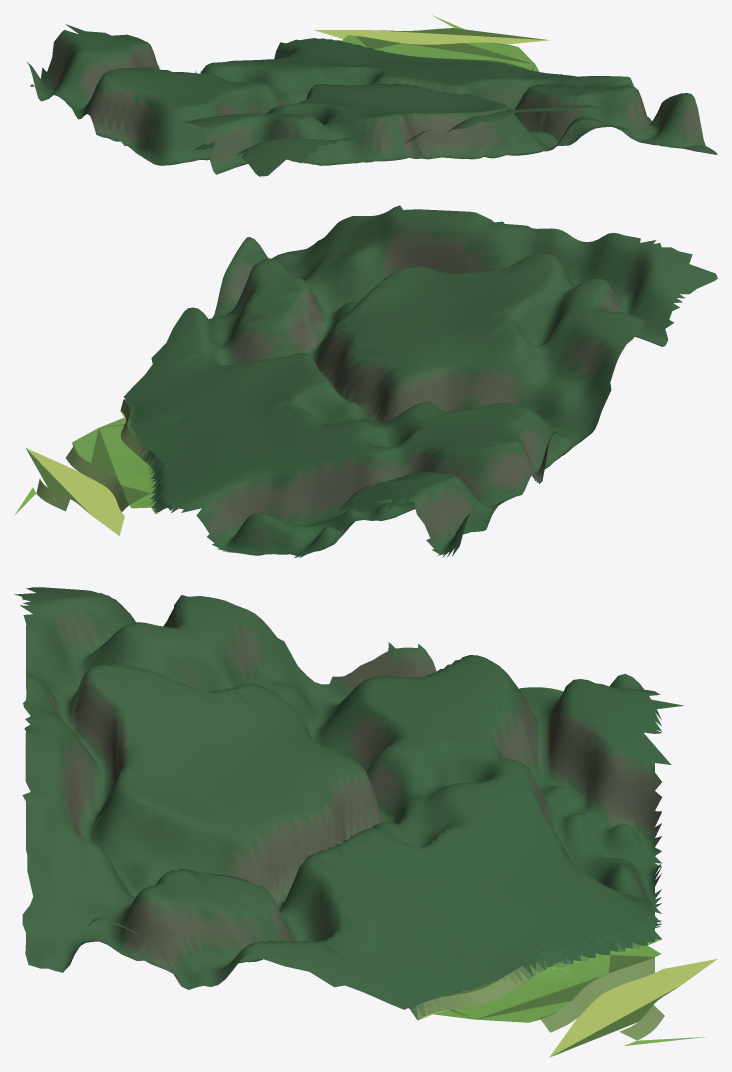
The model's file is payo_land_xm3_y8.glb.
3 views of the same model, one above another, from view 1: azimuth 30°, elevation 25°; view 2: azimuth 150°, elevation 25°; view 3: azimuth 270°, elevation 25° (orthographic). The views are drawn at different scales.
Parts seen in each view (by area): view 1: payo_land_xm3_y8; view 2: payo_land_xm3_y8; view 3: payo_land_xm3_y8.
Part boxes in pixels (x1,y1,x2,y2): payo_land_xm3_y8: [27, 15, 717, 176]; payo_land_xm3_y8: [14, 205, 717, 557]; payo_land_xm3_y8: [14, 587, 717, 1057].
Bounding box in the file's own units: 286 × 94.86 × 285.
